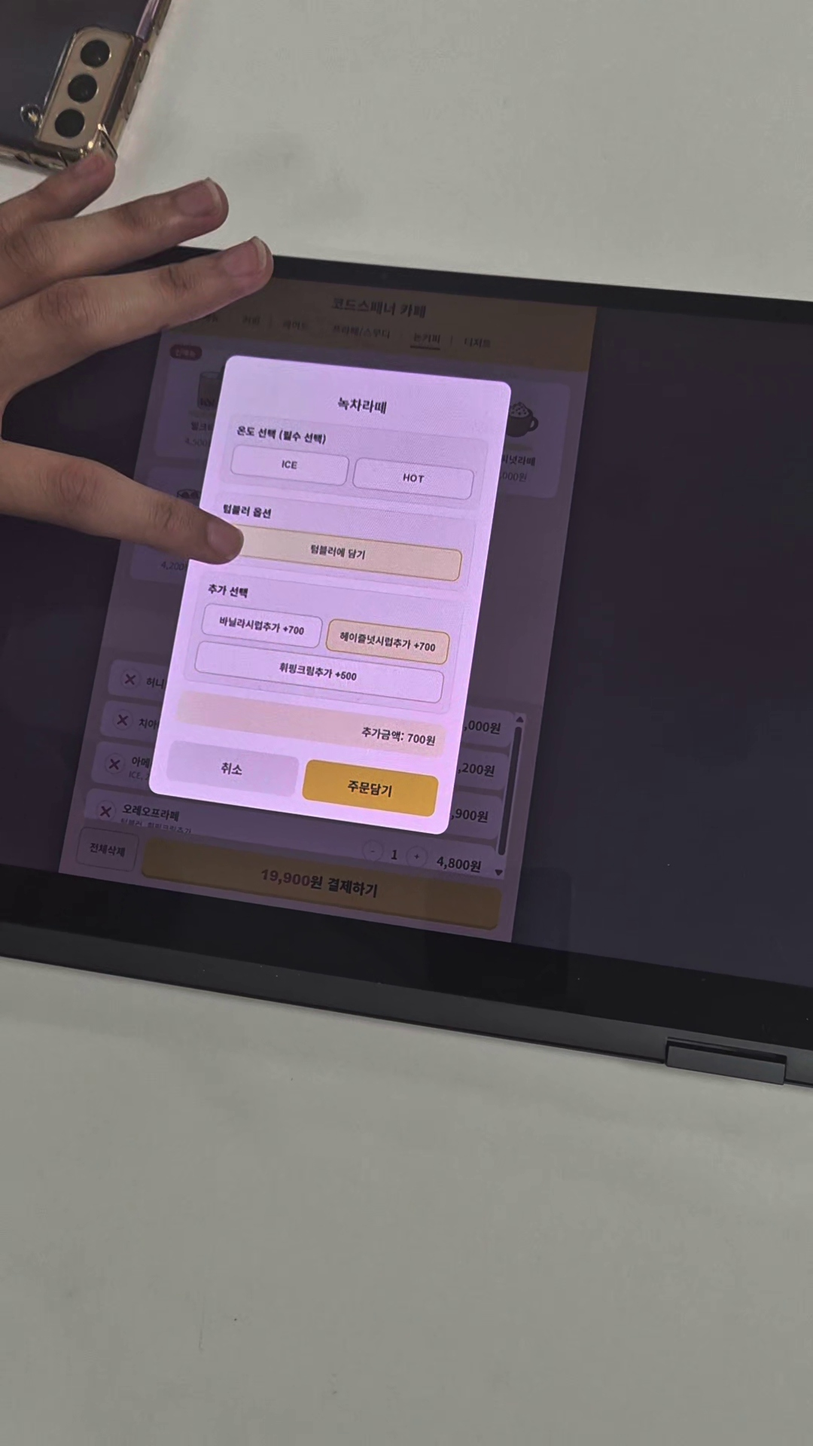action_button: (302, 759, 438, 817), (165, 739, 300, 797)
option_button: (193, 641, 444, 703), (217, 523, 461, 581), (325, 618, 450, 664), (201, 602, 323, 648), (229, 443, 349, 486), (353, 459, 473, 502)
popup_modal: (147, 365, 506, 836)
